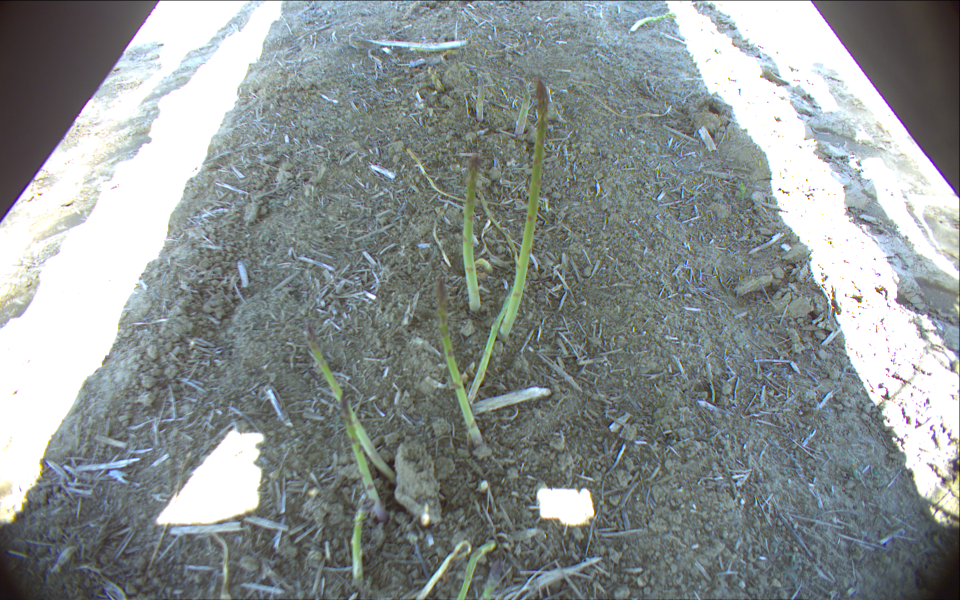aspa: (302, 323, 399, 486), (494, 77, 549, 347), (433, 278, 485, 450), (338, 391, 385, 521), (463, 150, 486, 316), (511, 77, 529, 135), (473, 71, 488, 124)
